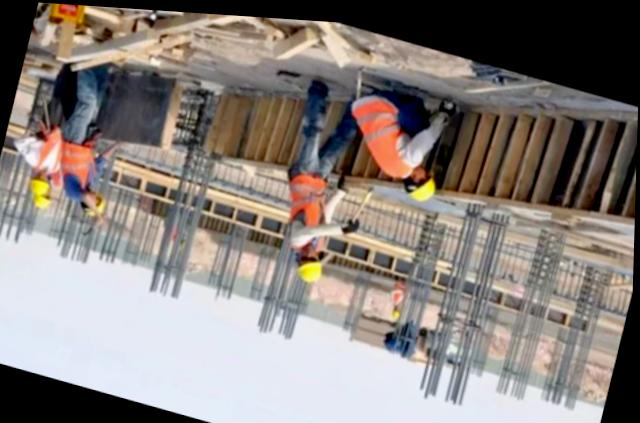helmet: (402, 166, 443, 208), (294, 249, 330, 285), (88, 193, 117, 227), (30, 187, 55, 212), (26, 173, 53, 193), (390, 302, 406, 312)
vest: (336, 79, 425, 175), (280, 158, 340, 246), (53, 134, 99, 199), (29, 119, 72, 176), (394, 275, 411, 299)
